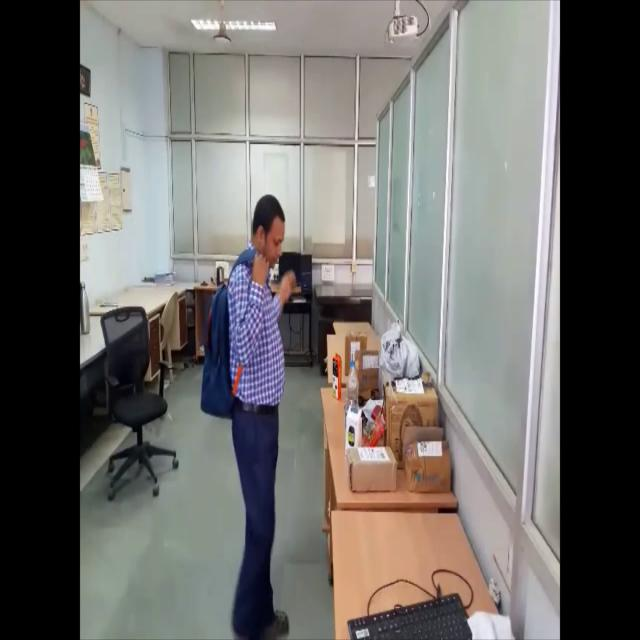shoplifting: (200, 193, 300, 636)
